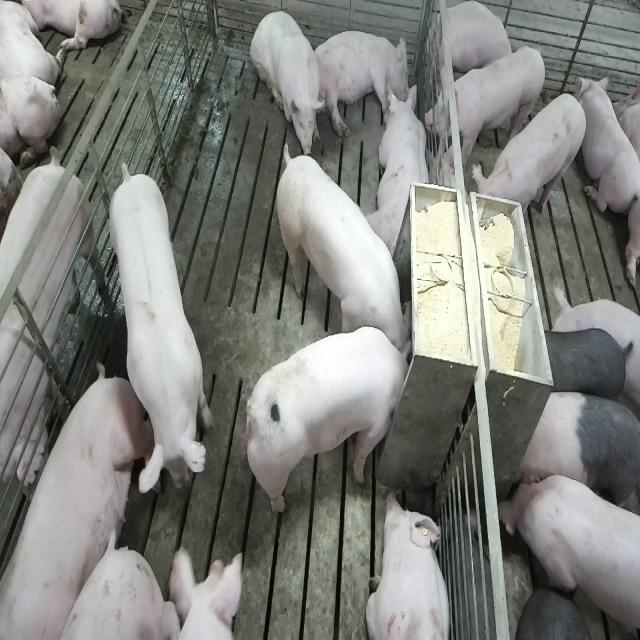Feeding: (249, 325, 419, 517), (274, 140, 410, 358)
Lateral_lying: (311, 29, 411, 138)
Sitting: (250, 6, 324, 156)
Standing: (0, 156, 104, 542), (108, 155, 212, 497), (499, 467, 638, 640), (514, 387, 638, 519), (473, 92, 588, 234), (426, 43, 548, 164), (526, 324, 630, 412), (161, 542, 247, 636)
Sternal_lying: (3, 361, 146, 637), (366, 490, 454, 640), (368, 83, 433, 262), (579, 72, 638, 222), (434, 3, 514, 85)
